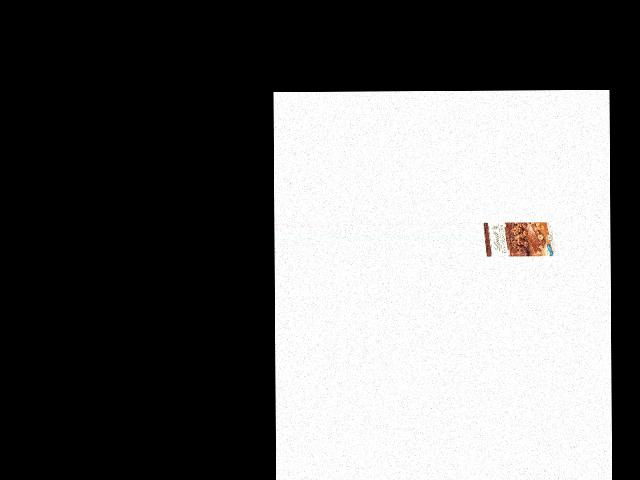chocolate: (486, 216, 554, 259)
